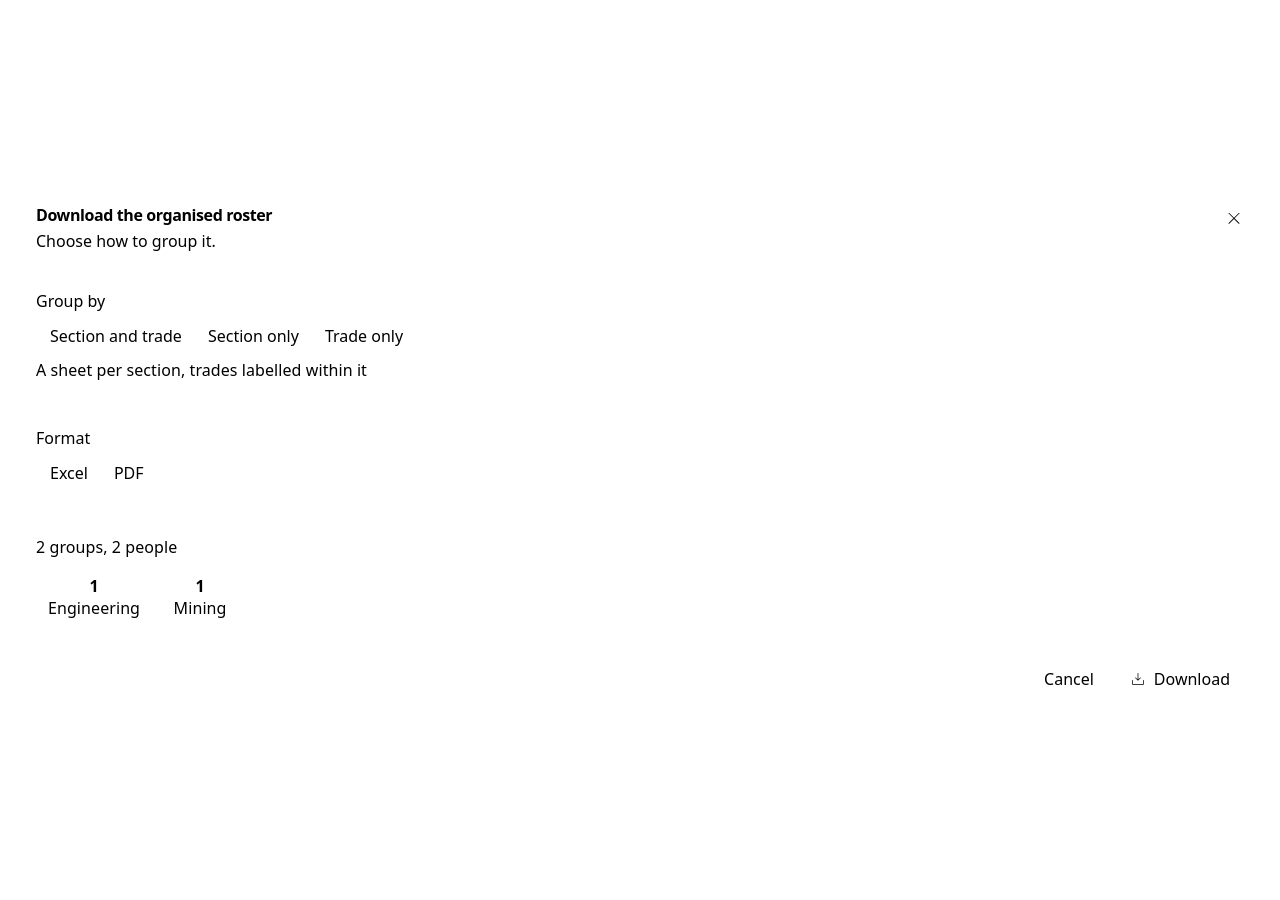
Scenario: RosterExportDialog success › a failed export says why and stays open, with no check
Click the button "Download" at coordinates (1180, 680), box [1116,662,1244,698]
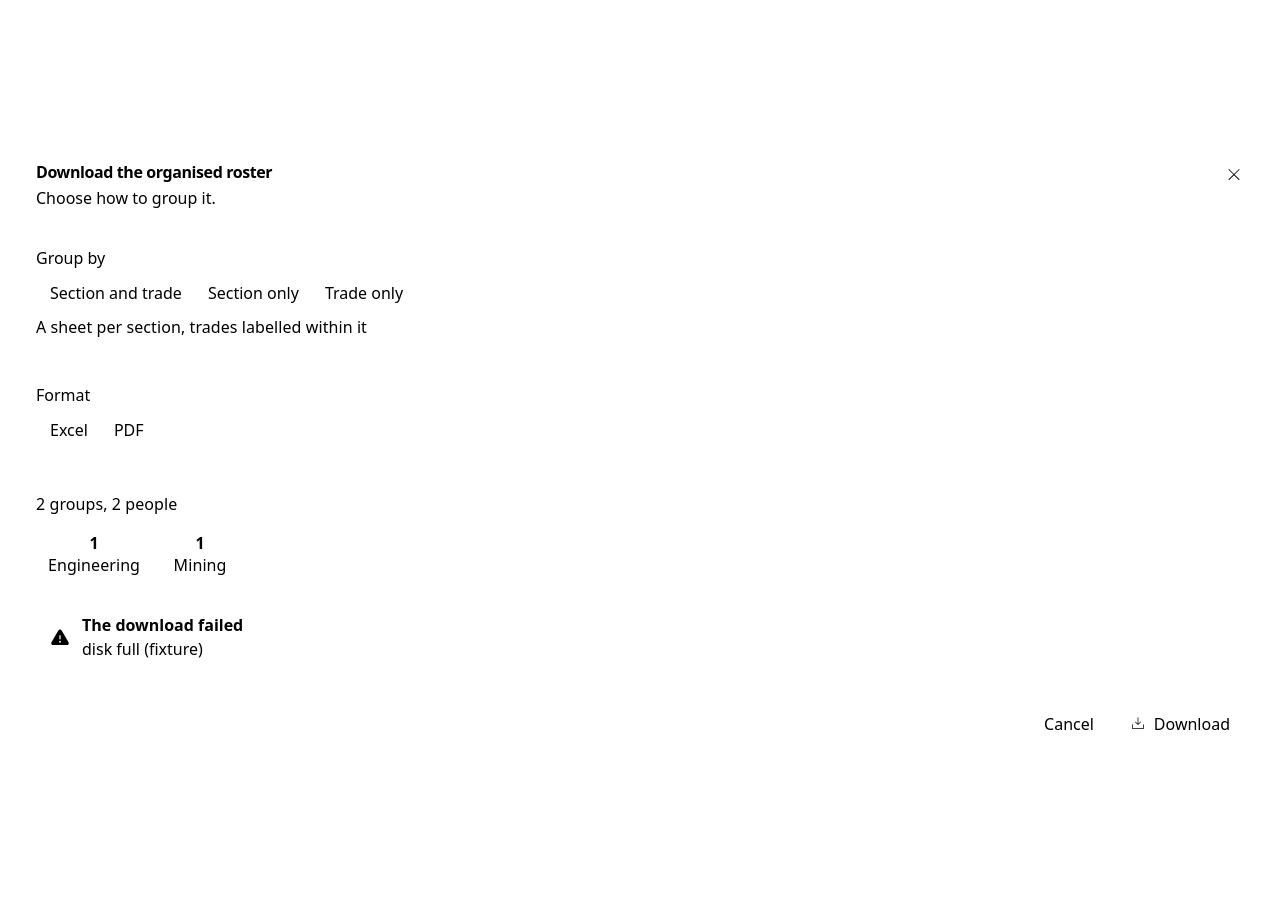
Result: the text "disk full (fixture)" is shown at [82,638,203,660]
